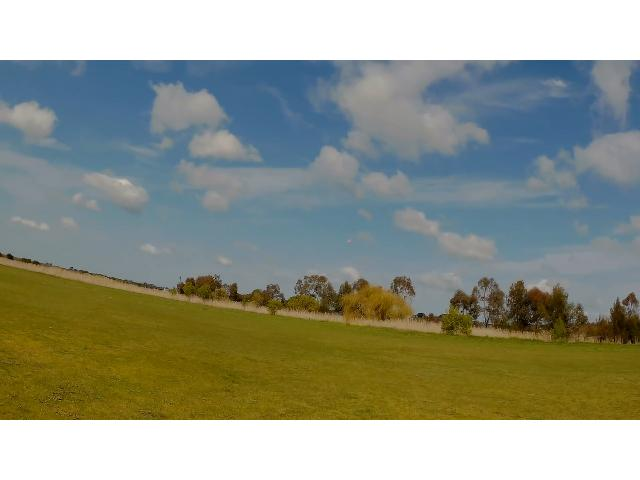Anti-Drone: (334, 235, 362, 247)
